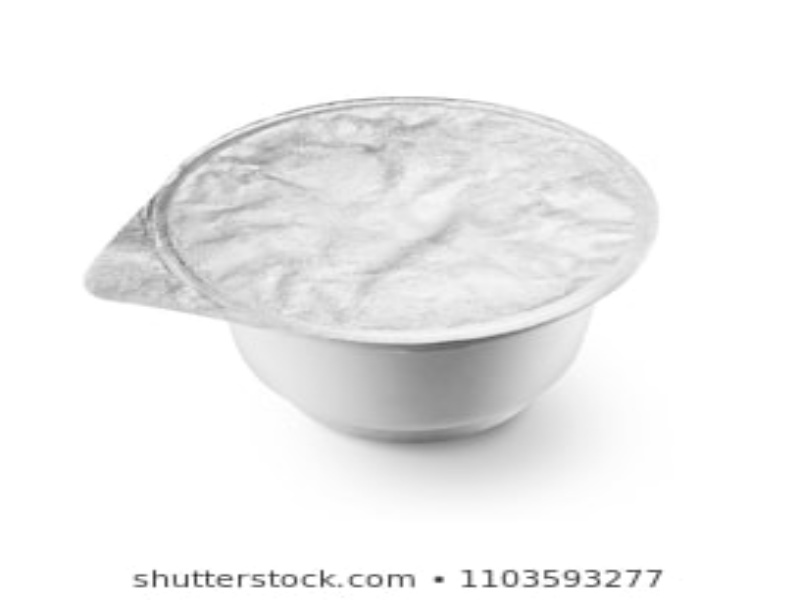yogurt-cup: (152, 101, 676, 441)
